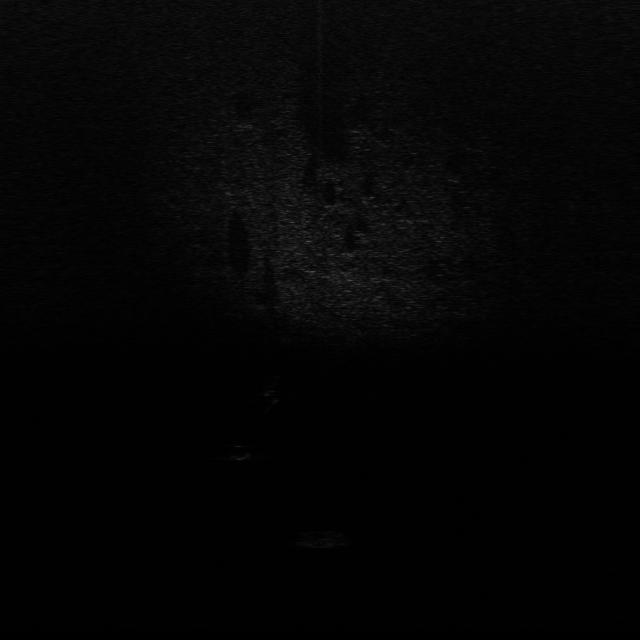ball: (227, 442, 254, 462)
circle cage: (283, 527, 351, 548)
human body: (259, 372, 287, 414)
